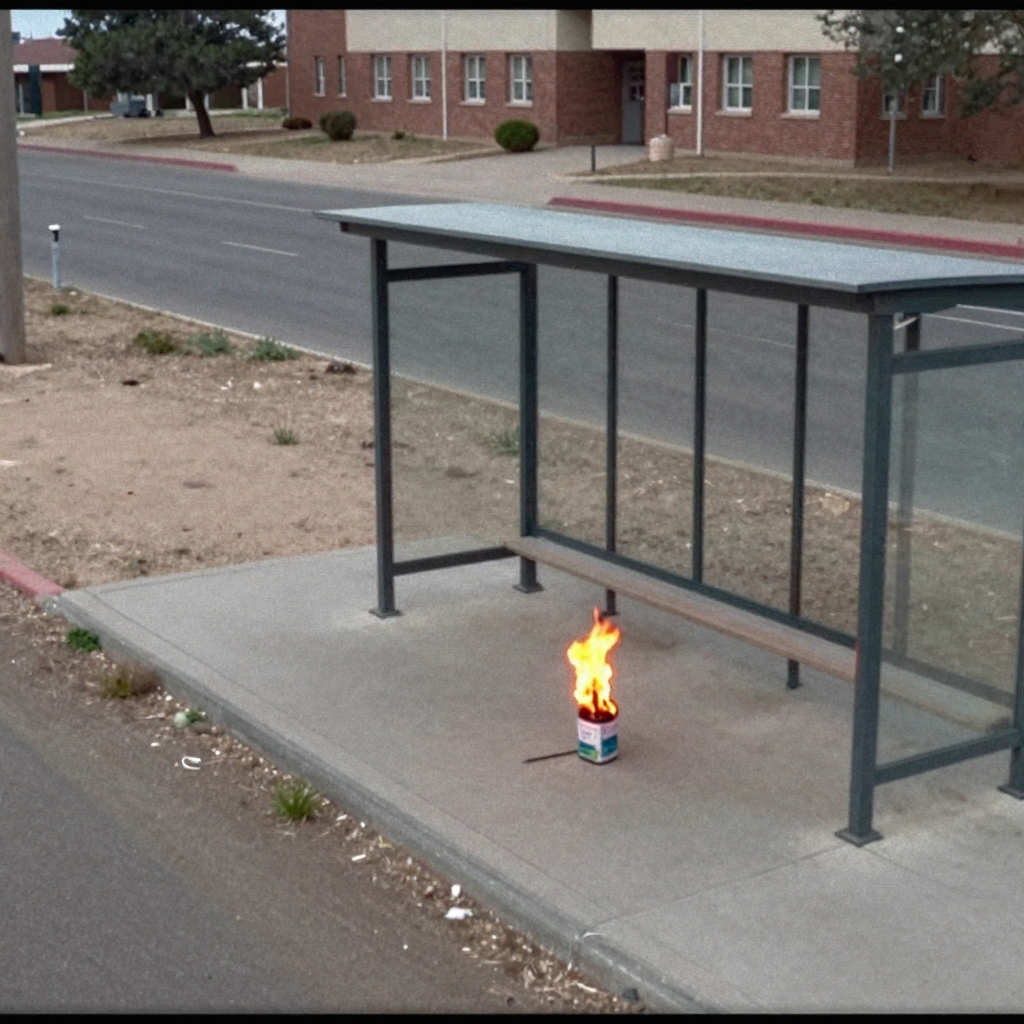Arson: (563, 611, 625, 711)
